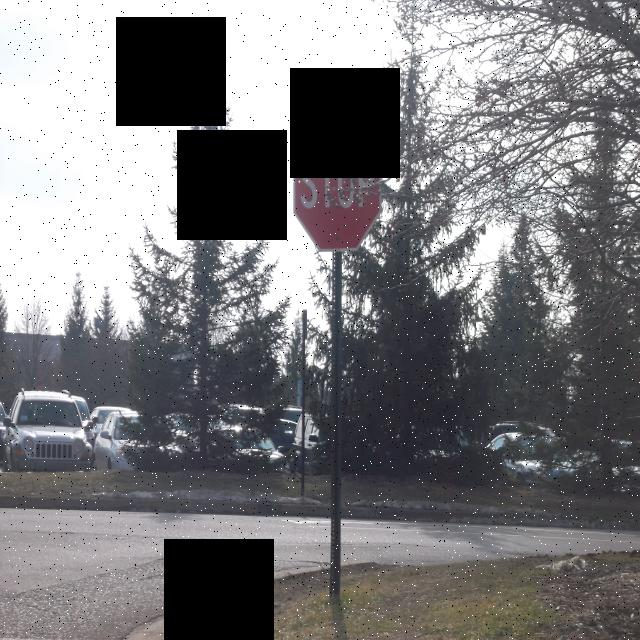stop: (290, 114, 381, 250)
